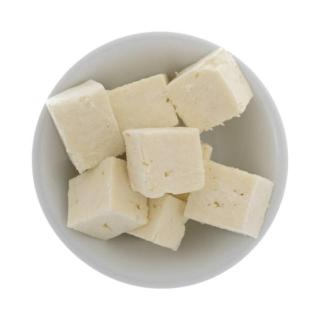Tahu: (47, 49, 277, 262)
